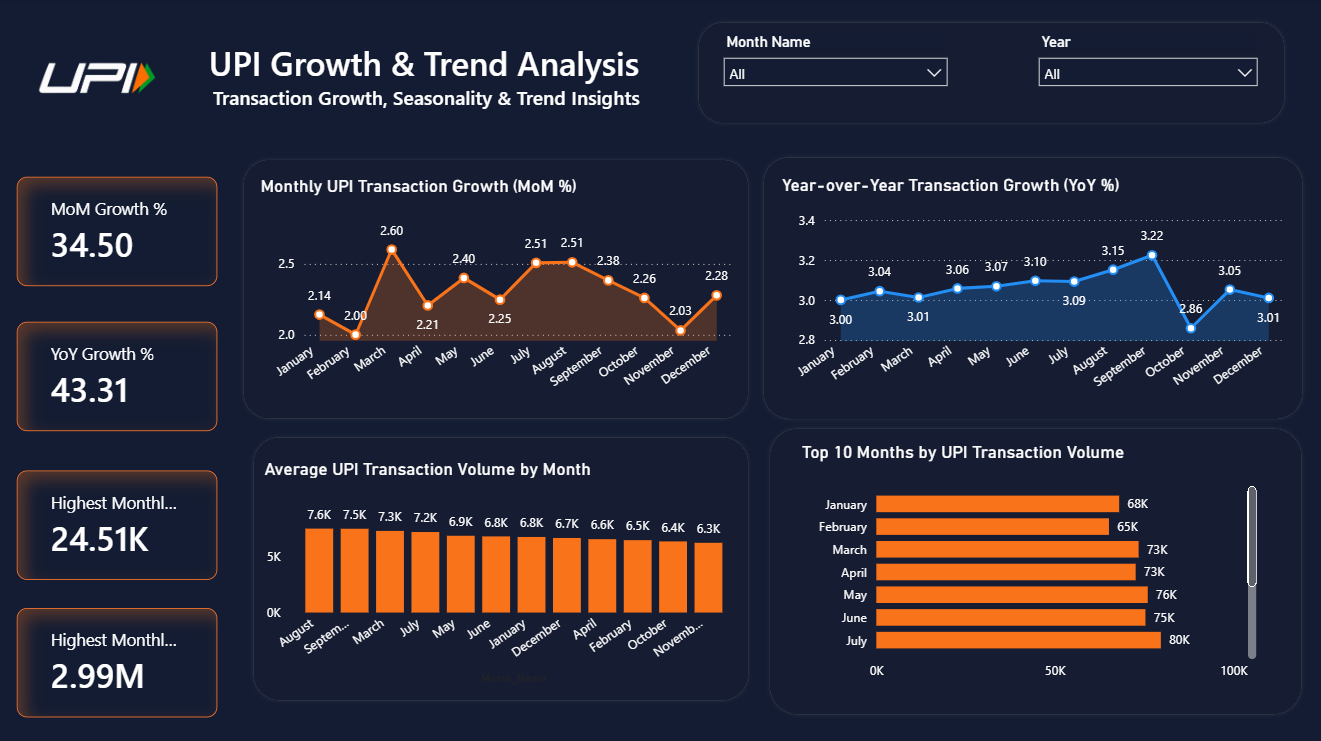

Layout of this report page (visuals, bound fields, positions):
{"tool":"powerbi","page":{"name":"Page 2","canvas":[1280,720],"ordinal":1},"visuals":[{"type":"group","id":"g1","title":"Group 1","box":[17.8,17.8,636.7,118],"z":0},{"type":"textbox","box":[17.8,17.8,636.7,118],"z":0,"group":"g1"},{"type":"group","id":"g2","title":"Group 2","box":[672.4,19.2,573.6,105.7],"z":1000},{"type":"image","box":[33.8,38.4,123.2,76.8],"z":1000,"group":"g1"},{"type":"cardVisual","fields":{"Data":["UPI_Statistics.MoM Growth %"]},"box":[17.8,172.9,193.5,105.7],"z":2000},{"type":"shape","box":[672.4,19.2,573.6,105.7],"z":3000,"group":"g2"},{"type":"cardVisual","fields":{"Data":["UPI_Statistics.YoY Growth %"]},"box":[17.8,312.9,193.5,105.7],"z":3000},{"type":"slicer","fields":{"Values":["UPI_Statistics.Month_Name"]},"box":[691.1,29.4,236,86.4],"z":3500,"group":"g2"},{"type":"slicer","fields":{"Values":["UPI_Statistics.Year"]},"box":[994.3,29.4,231.9,86.4],"z":4000,"group":"g2"},{"type":"cardVisual","fields":{"Data":["UPI_Statistics.Highest_Monthly_Volume"]},"box":[17.8,455.6,193.5,105.7],"z":4000},{"type":"cardVisual","fields":{"Data":["UPI_Statistics.Highest_Monthly_Value"]},"box":[17.8,588.7,193.5,105.7],"z":5000},{"type":"group","id":"g3","title":"Group 3","box":[233.3,152.3,495.4,258],"z":6000},{"type":"group","id":"g4","title":"Group 3","box":[734.1,149.6,528.3,260.7],"z":7000},{"type":"shape","box":[734.1,149.6,528.3,260.7],"z":7000,"group":"g4"},{"type":"shape","box":[233.3,152.3,495.4,258],"z":7000,"group":"g3"},{"type":"shape","box":[741,411.7,521.4,284],"z":7000,"group":"g6"},{"type":"shape","box":[242.9,419.9,485.8,262.1],"z":7000,"group":"g5"},{"type":"lineChart","title":"Year-over-Year Transaction Growth (YoY %)","fields":{"Category":["UPI_Statistics.Month_Date.Variation.Date Hierarchy.Month"],"Y":["UPI_Statistics.YoY Growth %"]},"box":[751.1,169.6,495.1,226],"z":7500,"group":"g4"},{"type":"lineChart","title":"Monthly UPI Transaction Growth (MoM %)","fields":{"Category":["UPI_Statistics.Month_Date.Variation.Date Hierarchy.Month"],"Y":["UPI_Statistics.MoM Growth %"]},"box":[249.3,172.1,464.2,223.6],"z":7500,"group":"g3"},{"type":"clusteredColumnChart","title":"Average UPI Transaction Volume by Month","fields":{"Category":["UPI_Statistics.Month_Name"],"Y":["UPI_Statistics.Avg_Monthly_Volume"]},"box":[252.3,443.9,466.3,224],"z":7503,"group":"g5"},{"type":"group","id":"g5","title":"Group 4","box":[242.9,419.9,485.8,262.1],"z":8000},{"type":"group","id":"g6","title":"Group 4","box":[741,411.7,521.4,284],"z":9000},{"type":"clusteredBarChart","title":"Top 10 Months by UPI Transaction Volume","fields":{"Category":["UPI_Statistics.Month_Date.Variation.Date Hierarchy.Month"],"Y":["UPI_Statistics.Total_Volume"]},"box":[771.2,428.1,448.7,238.8],"z":10000}]}

Visuals, with their boxes in screenshot pixels (x1, y1, x2, y2), scaled from the page's 1280x720 canvas onto the 1321x741 screenshot:
"Group 1" group: <box>18,18,675,140</box>
textbox: <box>18,18,675,140</box>
"Group 2" group: <box>694,20,1286,129</box>
image: <box>35,40,162,119</box>
cardVisual - UPI_Statistics.MoM Growth %: <box>18,178,218,287</box>
shape: <box>694,20,1286,129</box>
cardVisual - UPI_Statistics.YoY Growth %: <box>18,322,218,431</box>
slicer - UPI_Statistics.Month_Name: <box>713,30,957,119</box>
slicer - UPI_Statistics.Year: <box>1026,30,1265,119</box>
cardVisual - UPI_Statistics.Highest_Monthly_Volume: <box>18,469,218,578</box>
cardVisual - UPI_Statistics.Highest_Monthly_Value: <box>18,606,218,715</box>
"Group 3" group: <box>241,157,752,422</box>
"Group 3" group: <box>758,154,1303,422</box>
shape: <box>758,154,1303,422</box>
shape: <box>241,157,752,422</box>
shape: <box>765,424,1303,716</box>
shape: <box>251,432,752,702</box>
"Year-over-Year Transaction Growth (YoY %)" lineChart: <box>775,175,1286,407</box>
"Monthly UPI Transaction Growth (MoM %)" lineChart: <box>257,177,736,407</box>
"Average UPI Transaction Volume by Month" clusteredColumnChart: <box>260,457,742,687</box>
"Group 4" group: <box>251,432,752,702</box>
"Group 4" group: <box>765,424,1303,716</box>
"Top 10 Months by UPI Transaction Volume" clusteredBarChart: <box>796,441,1259,686</box>
